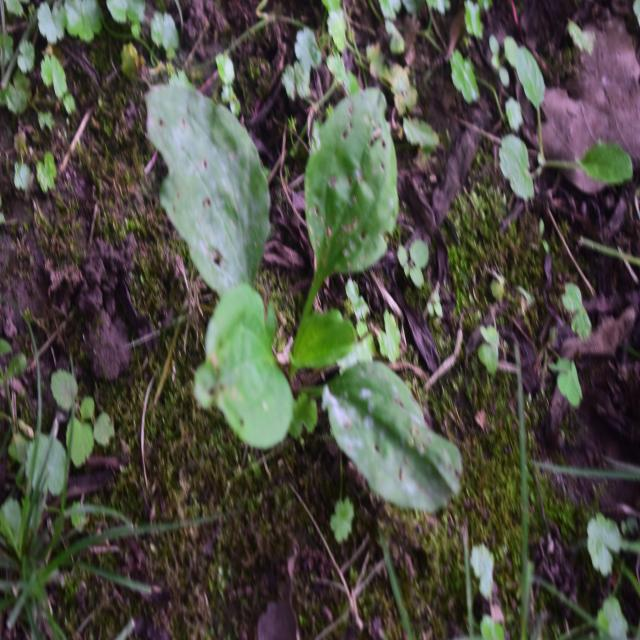plantain: (135, 48, 487, 502)
